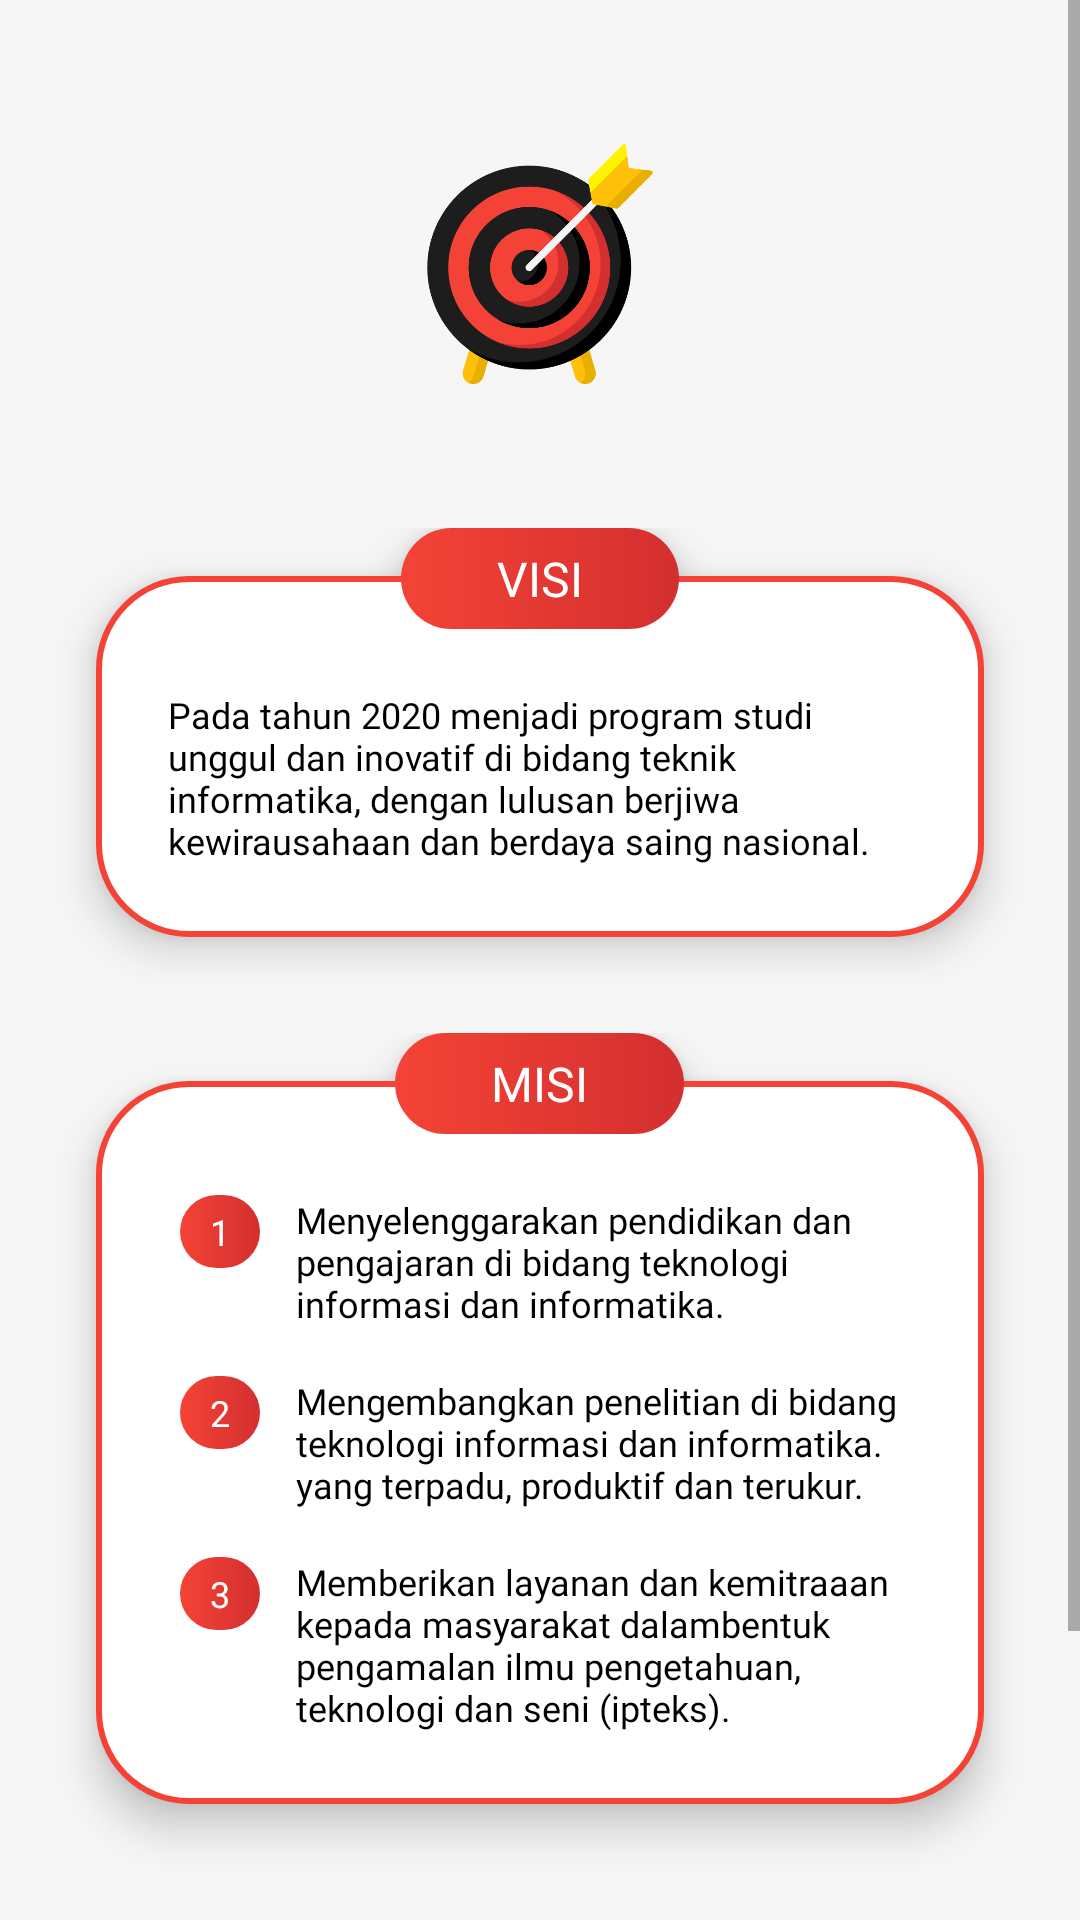

Named icons in this screenshot (1080 x 1920) and their bounding boxes, (x1, y1, x2, y2):
target: (427, 144, 653, 384)
